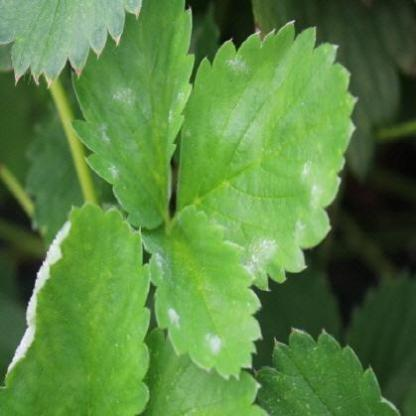Strawberry_Powdery_Mildew_Leaf: (175, 19, 356, 292), (0, 200, 153, 416), (67, 0, 196, 230), (140, 206, 264, 382)
